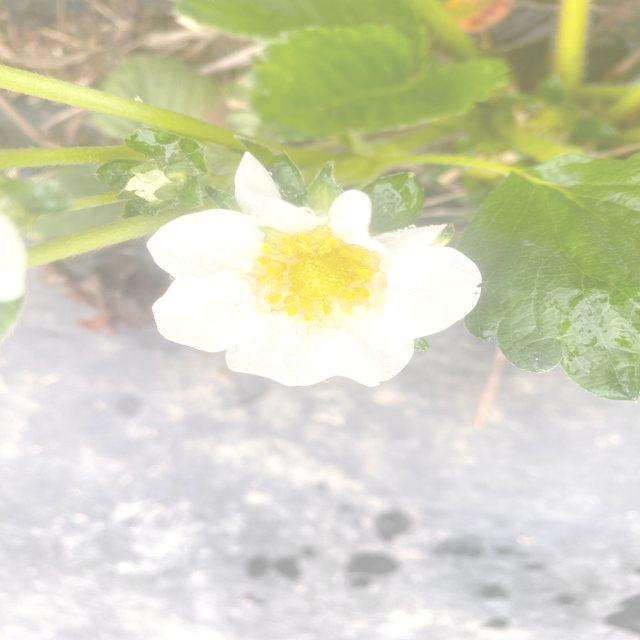flower: (138, 164, 482, 388)
